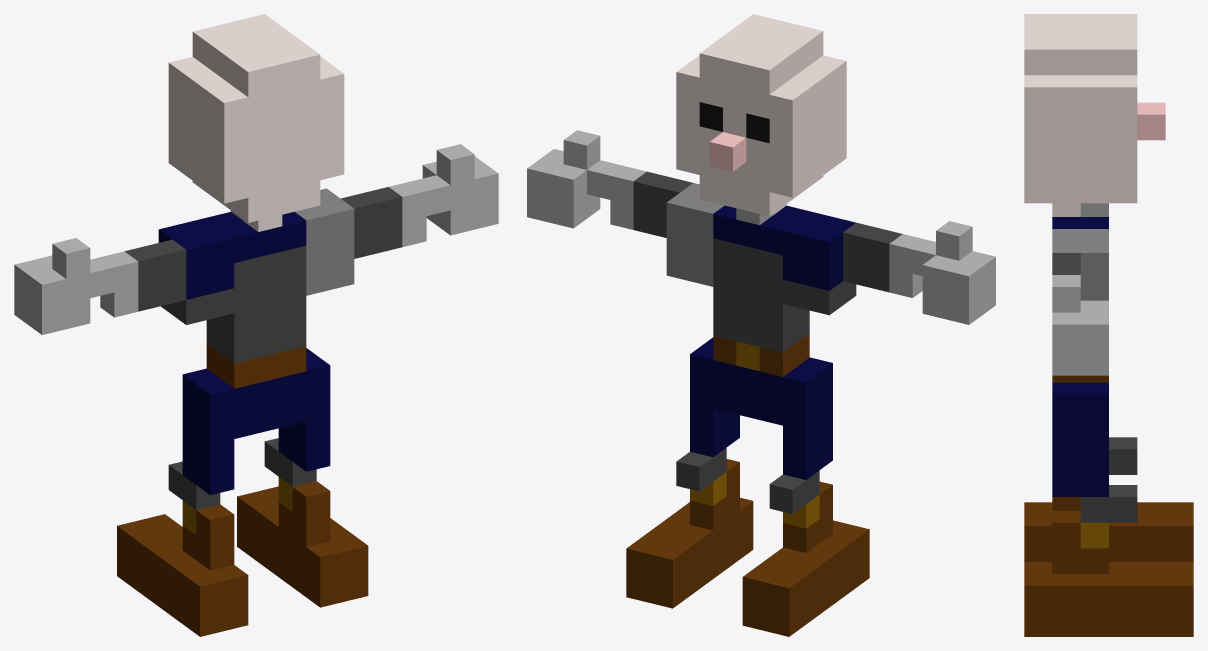
The model's file is rags.glb.
3 views of the same model, side by side, from view 1: azimuth 30°, elevation 25°; view 2: azimuth 150°, elevation 25°; view 3: azimuth 270°, elevation 25° (orthographic). The views are drawn at different scales.
Visible parts, largest first — view 1: Untitled; view 2: Untitled; view 3: Untitled.
Boxes of the visible parts, x1=… form: Untitled: x1=14, y1=14, x2=498, y2=636; Untitled: x1=527, y1=14, x2=995, y2=636; Untitled: x1=1024, y1=14, x2=1193, y2=636.
Bounding box in the file's own units: 1.9 × 2.2 × 0.6.
1 material, 1 textured.
